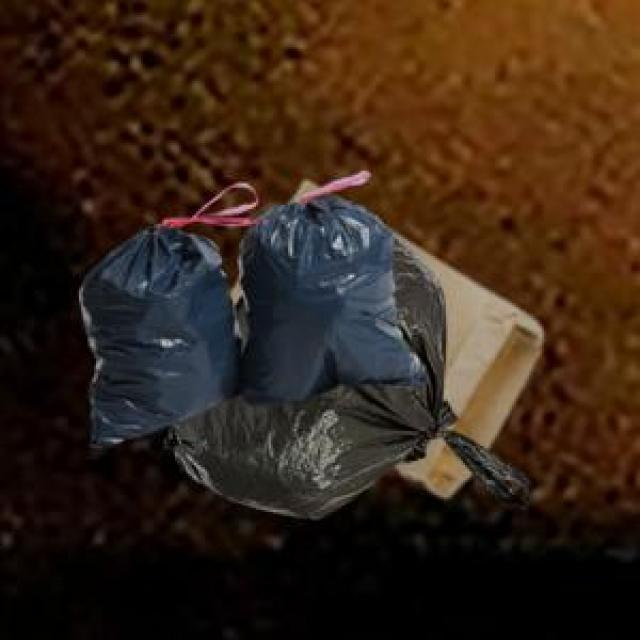miscellaneous trash: (160, 188, 524, 514), (75, 166, 422, 444)
paper: (226, 177, 538, 493)
